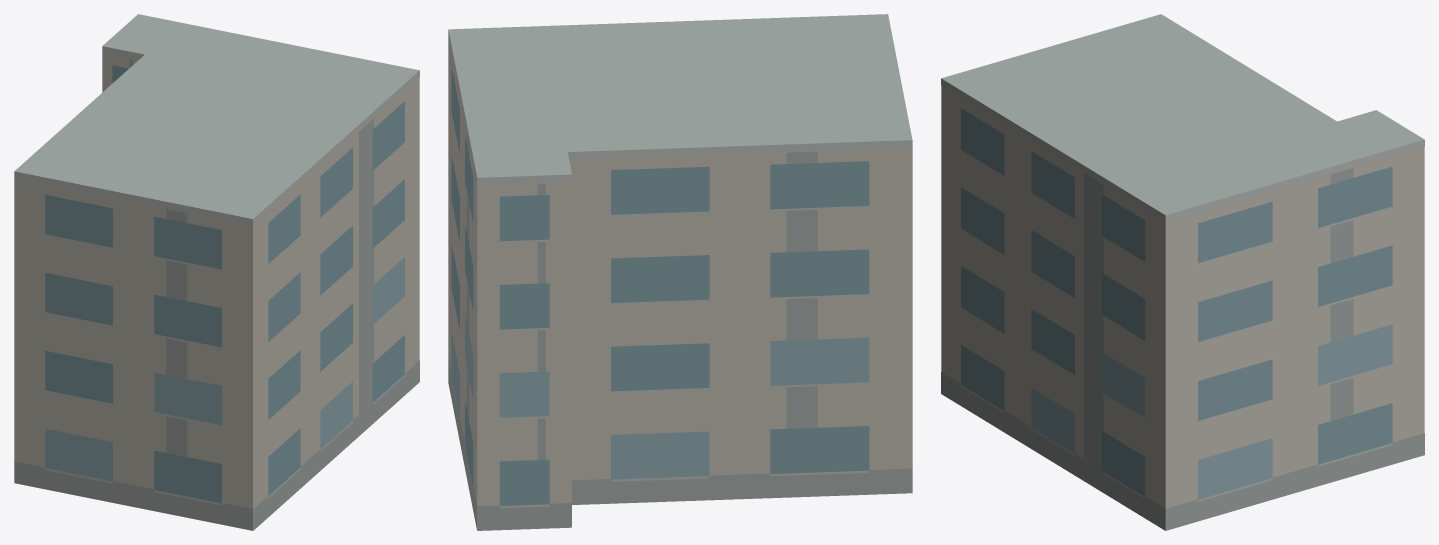
The model's file is residential-1ab81563-a173-476d-ba33-2d3bf3235ffa.glb.
3 renders of one model, left to right at view 1: azimuth 30°, elevation 25°; view 2: azimuth 150°, elevation 25°; view 3: azimuth 270°, elevation 25°, orthographic. The views are drawn at different scales.
Visible parts, largest first — view 1: residential-1ab81563-a173-476d-ba33-2d3bf3235ffa.tmp; view 2: residential-1ab81563-a173-476d-ba33-2d3bf3235ffa.tmp; view 3: residential-1ab81563-a173-476d-ba33-2d3bf3235ffa.tmp.
Part boxes in pixels (box(x1,y1,x2,y2)): residential-1ab81563-a173-476d-ba33-2d3bf3235ffa.tmp: box(14, 14, 419, 530); residential-1ab81563-a173-476d-ba33-2d3bf3235ffa.tmp: box(448, 14, 912, 530); residential-1ab81563-a173-476d-ba33-2d3bf3235ffa.tmp: box(941, 14, 1424, 530).
Bounding box in the file's own units: 14.38 × 10.5 × 14.59.
